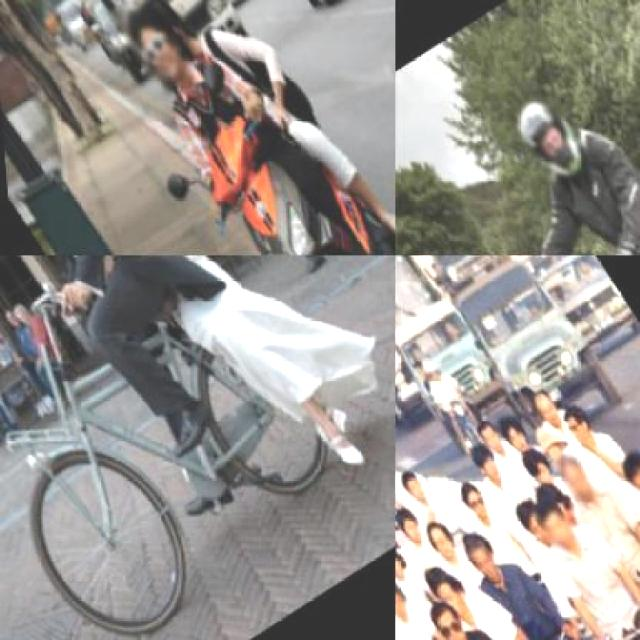With Helmet: (498, 84, 600, 198), (410, 350, 448, 390)
Without Helmet: (100, 0, 195, 100), (522, 497, 580, 568), (547, 453, 602, 518), (409, 591, 474, 638), (604, 443, 638, 526), (395, 578, 414, 632)
